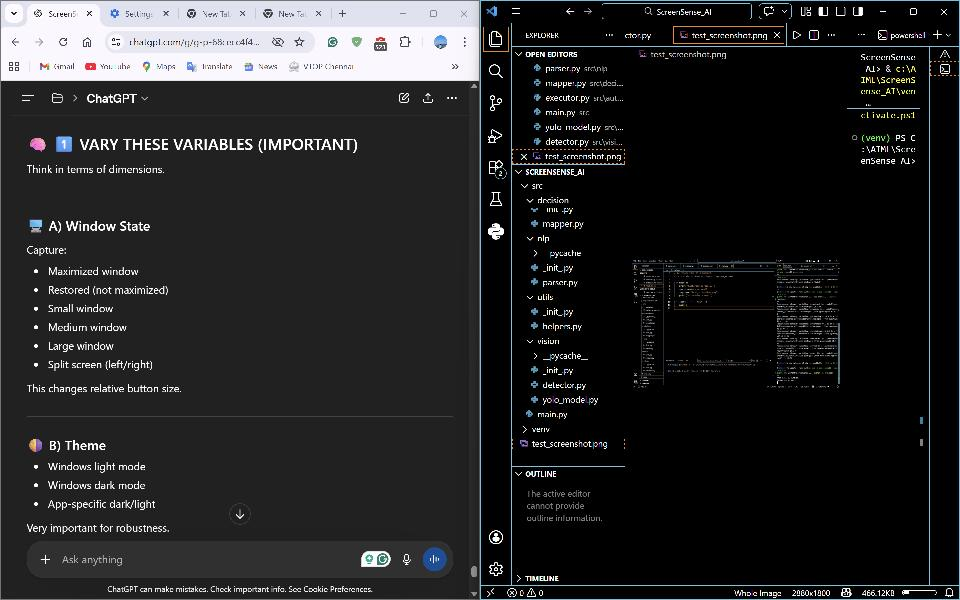close_button: (453, 2, 474, 23), (935, 3, 952, 19)
maximize_button: (423, 3, 445, 24), (904, 3, 925, 19)
minimize_button: (393, 2, 413, 25), (873, 3, 893, 19)
